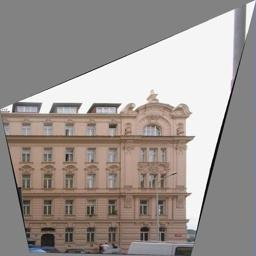building: (0, 83, 189, 249)
